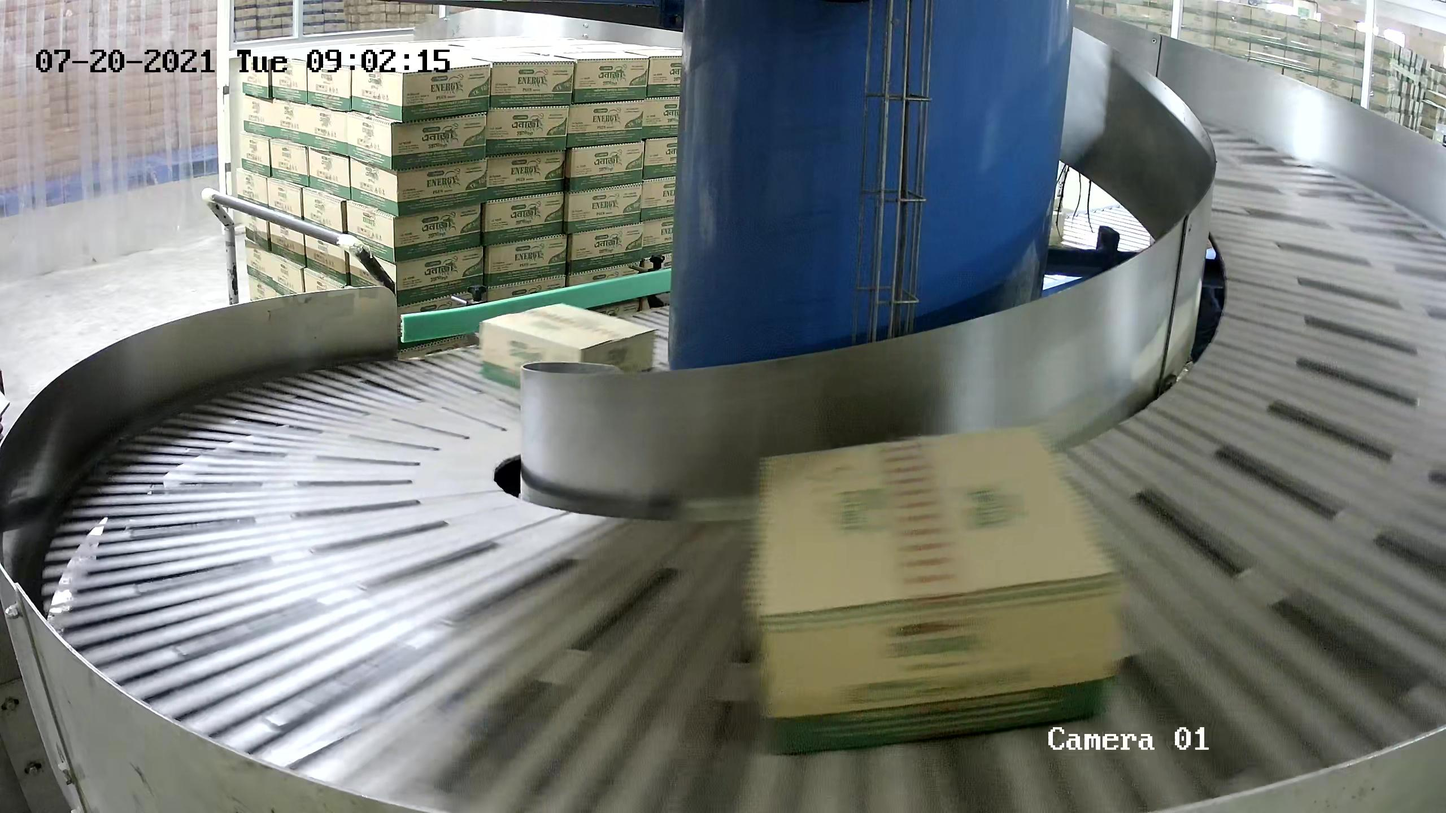Box: (744, 421, 1130, 757), (479, 302, 658, 389)
